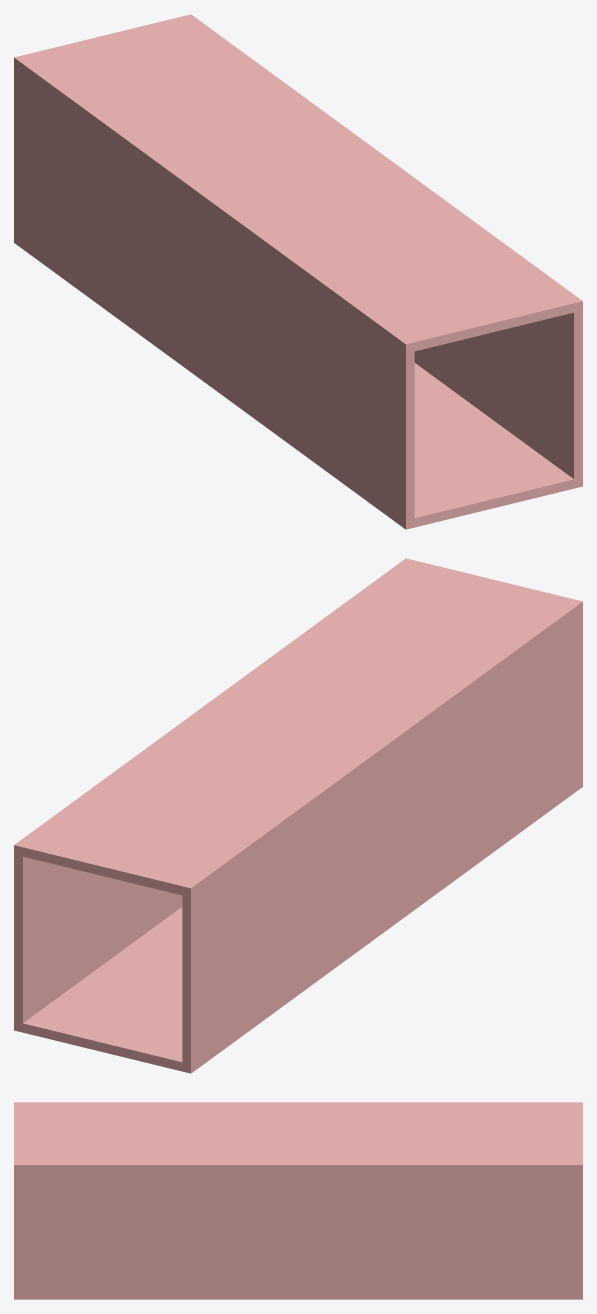
3 views of the same model, one above another, from view 1: azimuth 30°, elevation 25°; view 2: azimuth 150°, elevation 25°; view 3: azimuth 270°, elevation 25° (orthographic). The views are drawn at different scales.
Visible parts, largest first — view 1: <组件#34>_1; view 2: <组件#34>_1; view 3: <组件#34>_1.
Boxes of the visible parts, x1,y1,x2,y2 form: <组件#34>_1: [14, 14, 582, 529]; <组件#34>_1: [14, 558, 582, 1073]; <组件#34>_1: [14, 1102, 582, 1299].
Size of the model in its own units: 1.18 by 1.18 by 4.53.
